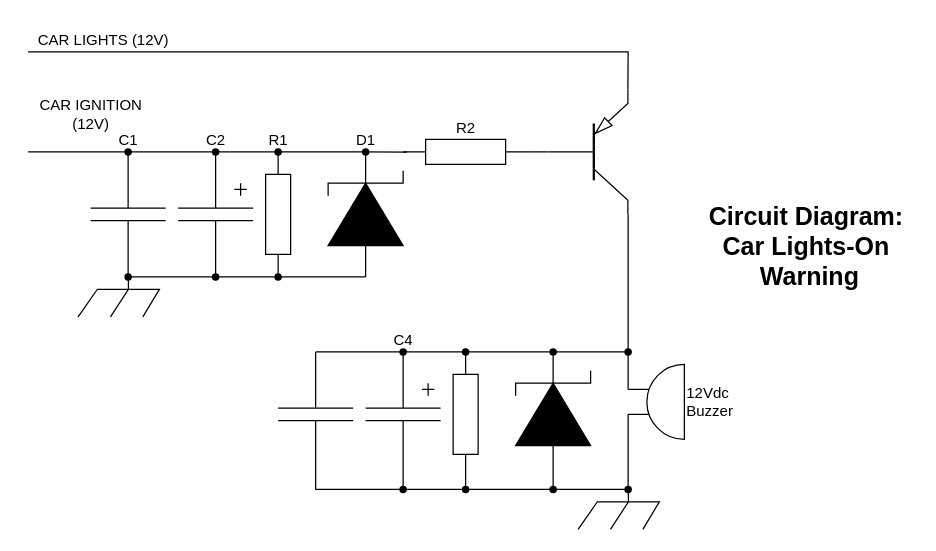
This 936x551 diagram has some shape labels left out. Here are the shapes that lost their labels. From the top down, the box of each, then its label:
(547, 88, 628, 214): Q1
(277, 351, 353, 477): C3
(452, 351, 478, 477): R3
(514, 351, 591, 477): D2
